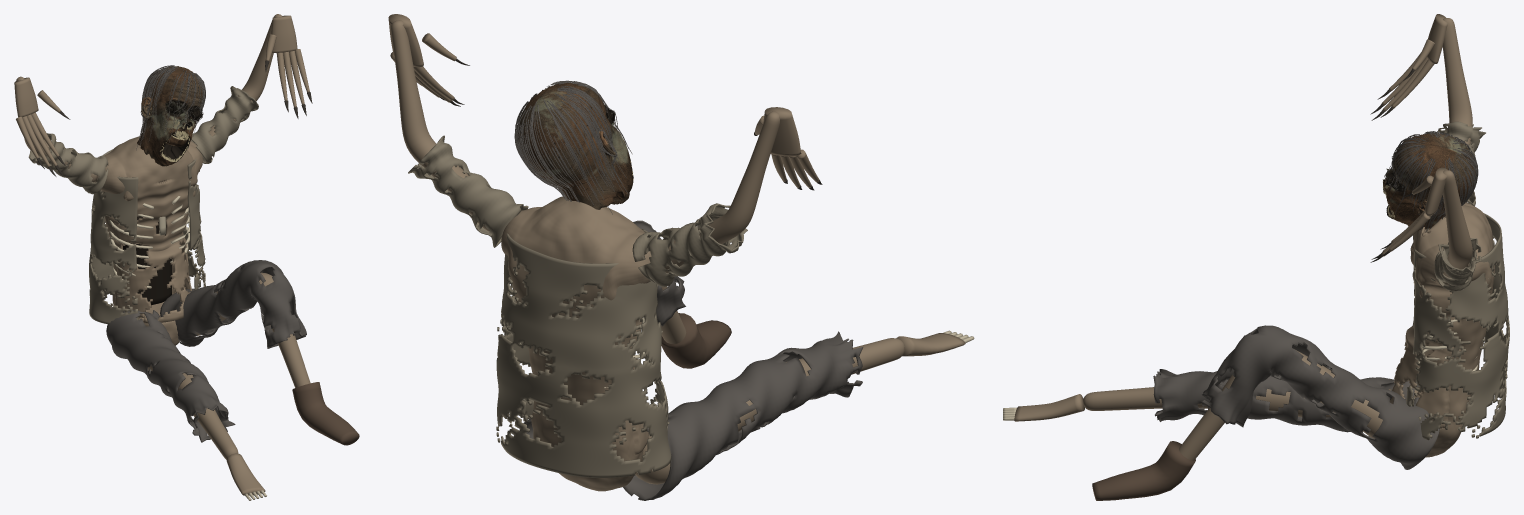
Rendered from archive-corpse-v431.glb.
The picture shows the model from 3 angles, left to right: view 1: azimuth 30°, elevation 25°; view 2: azimuth 150°, elevation 25°; view 3: azimuth 270°, elevation 25°; orthographic projection. The views are drawn at different scales.
Visible parts, largest first — view 1: RottingCorpse; view 2: RottingCorpse; view 3: RottingCorpse.
Boxes of the visible parts, x1,y1,x2,y2 form: RottingCorpse: [14, 14, 359, 500]; RottingCorpse: [388, 14, 974, 500]; RottingCorpse: [1003, 14, 1509, 500].
Size of the model in its own units: 1.03 by 1.06 by 1.31.
Materials: 10 (1 with a texture image).
